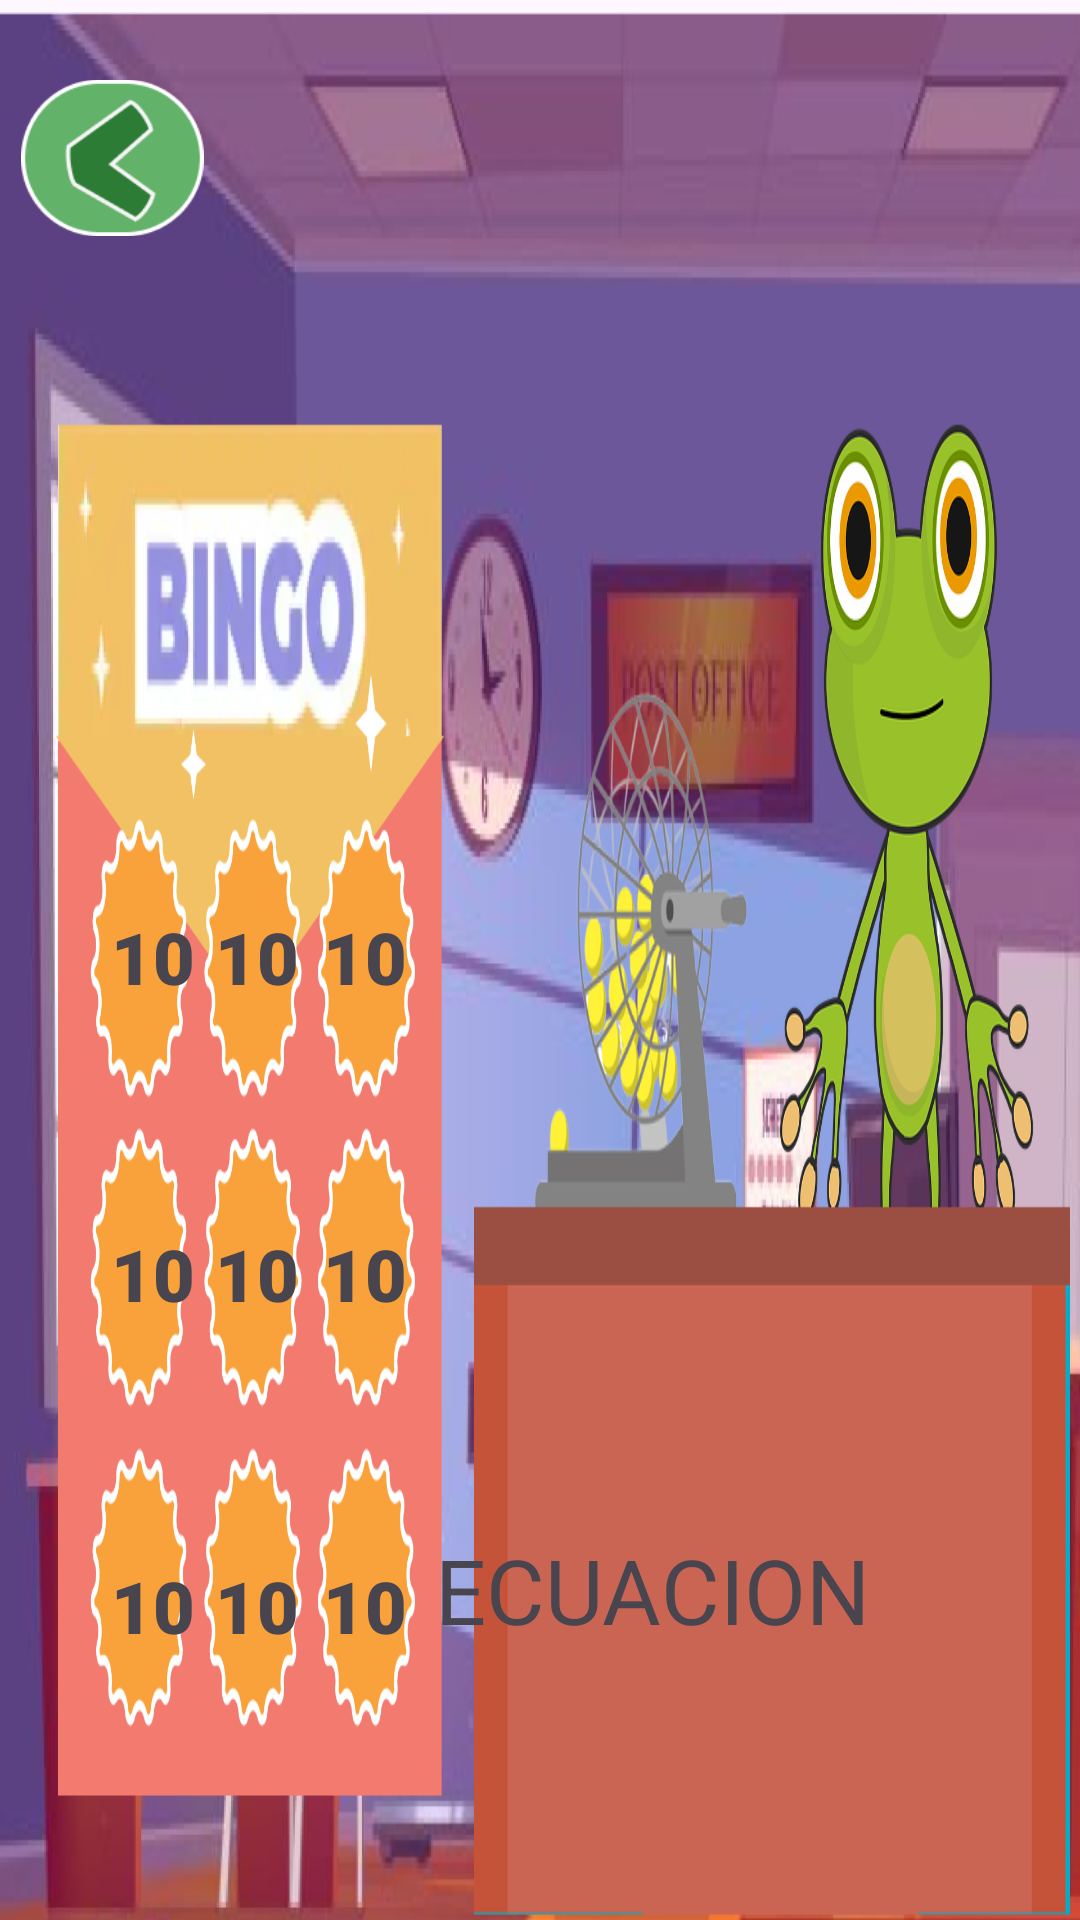

Where to tap for icons on this 1080x1920 app screen, as (x=x, y=y):
botonregresar: (x=112, y=156)
